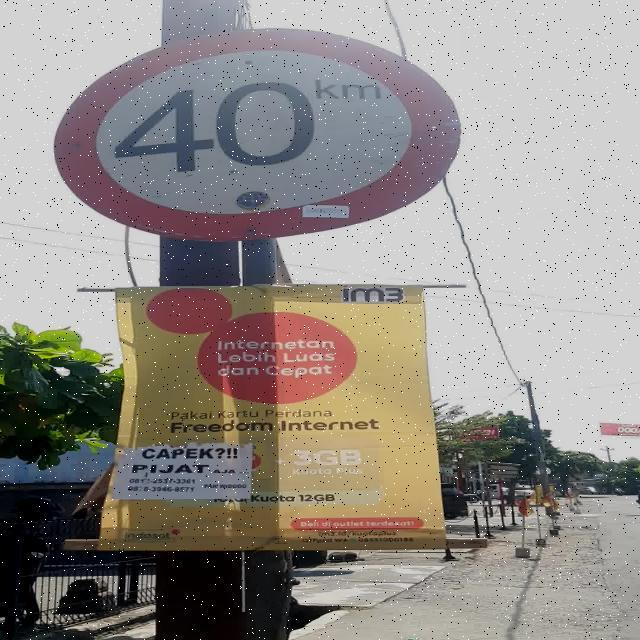Kecepatan Maks. 40 km: (51, 29, 462, 241)
